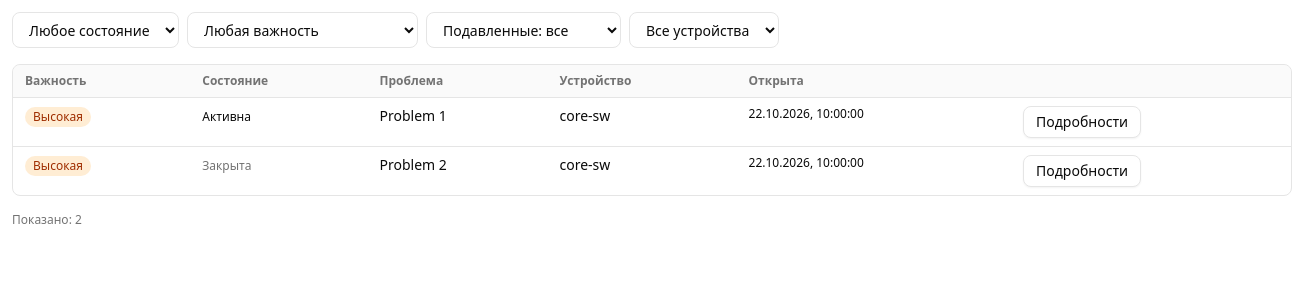
Test: ProblemList › without problems.ack and for a resolved problem there is no acknowledge form
Click the button "Подробности" in the row of "Активна".
click(1082, 122)  # box [1023,106,1141,138]
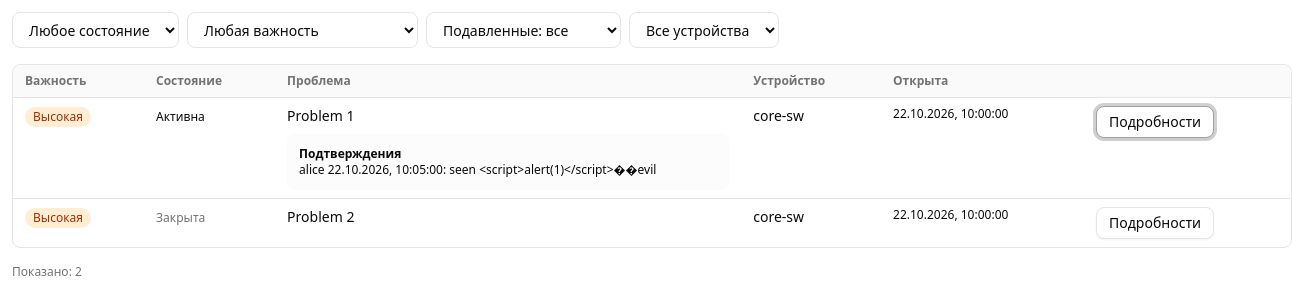
Expected: the element with test id "problem-details" is shown, [287,134,729,190]
